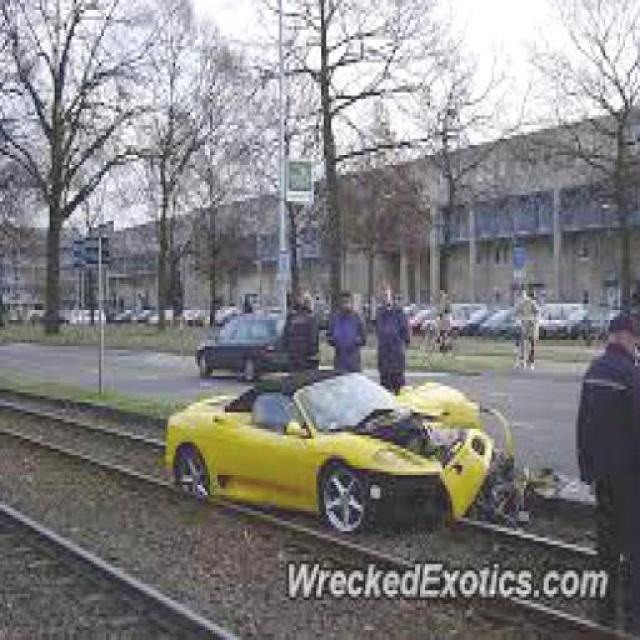Car-Damage: (323, 382, 520, 523)
